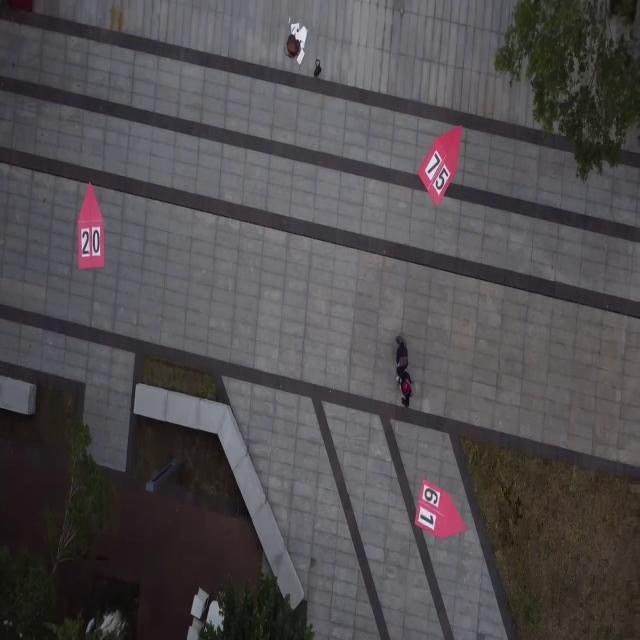-sign-: (419, 125, 463, 206), (414, 478, 467, 540), (77, 180, 105, 270)
